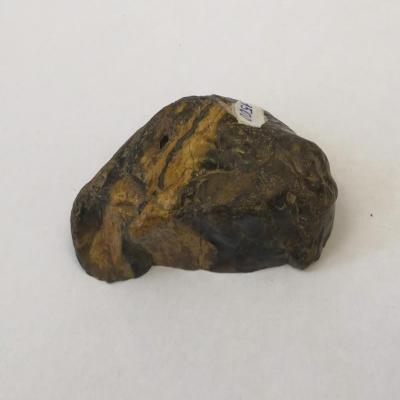mineralogy: (71, 95, 338, 282)
